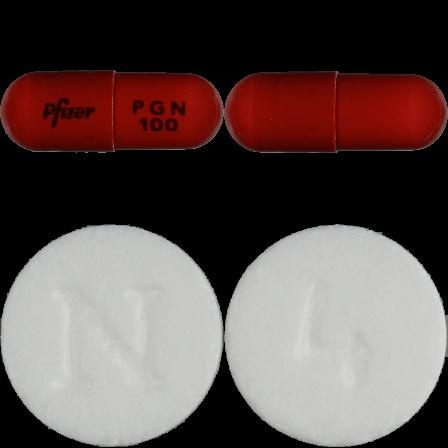55154-2432: (0, 0, 224, 224)
